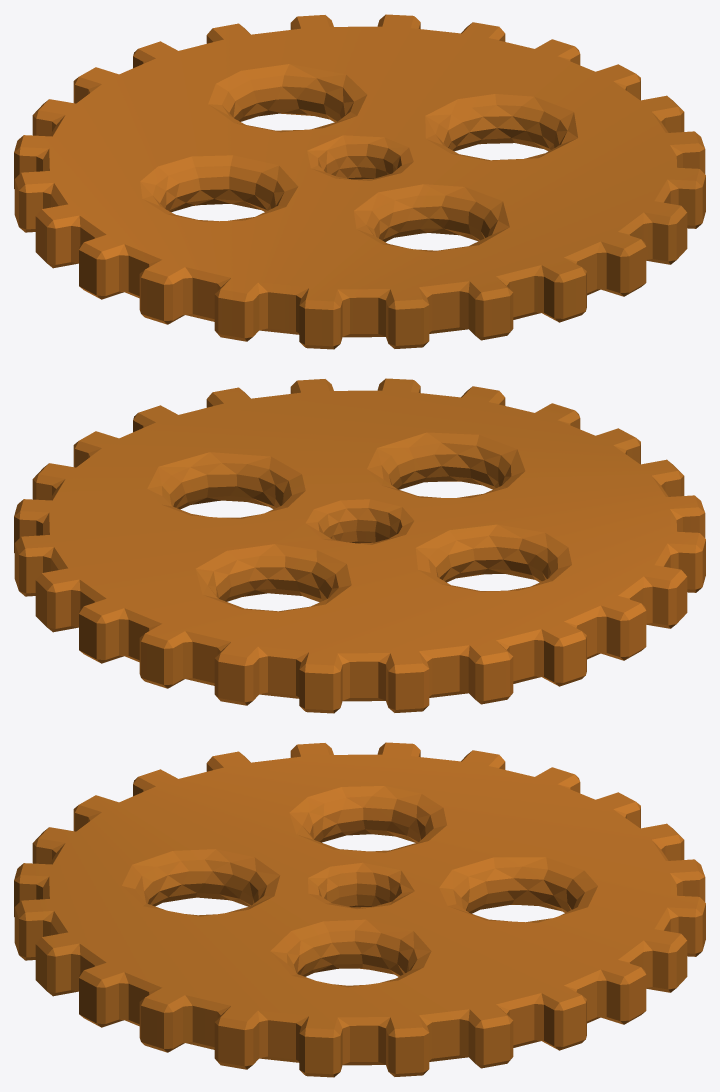
Rendered from EngrenagemFuros.fbx.
3 renders of one model, top to bottom at view 1: azimuth 30°, elevation 25°; view 2: azimuth 150°, elevation 25°; view 3: azimuth 270°, elevation 25°, orthographic.
Parts seen in each view (by area): view 1: EngrenagemFuros; view 2: EngrenagemFuros; view 3: EngrenagemFuros.
Boxes of the visible parts, <box> form: EngrenagemFuros: <box>14,14,705,349</box>; EngrenagemFuros: <box>14,378,705,713</box>; EngrenagemFuros: <box>14,742,705,1077</box>.
Size of the model in its own units: 321 by 24.55 by 321.
